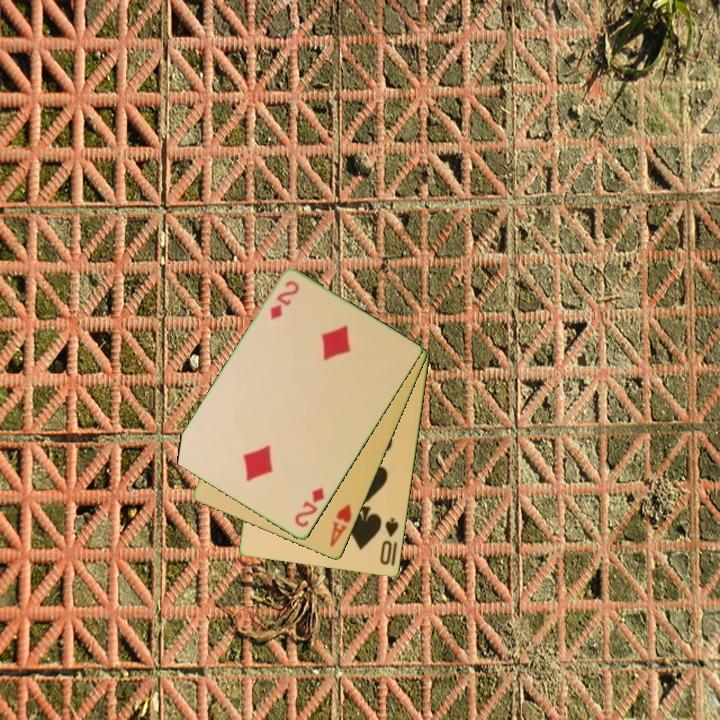10s: (377, 515, 402, 568)
2d: (291, 484, 328, 531), (266, 277, 302, 323)
Ah: (326, 501, 355, 550)
